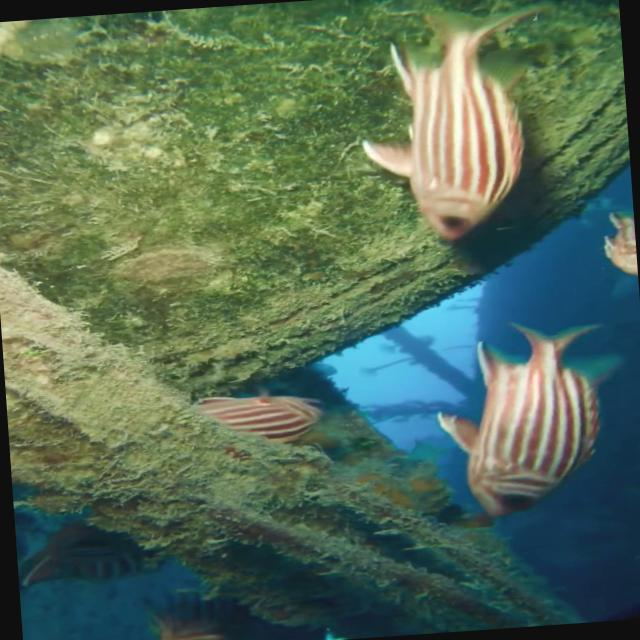Asker Baligi: (348, 0, 570, 247), (428, 314, 619, 521), (188, 385, 326, 449)
